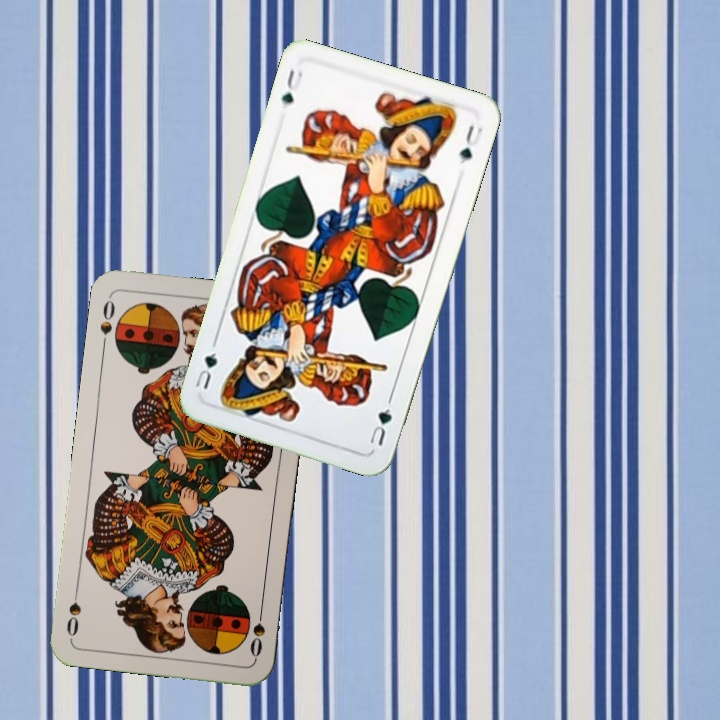GU: (364, 394, 395, 448), (277, 64, 305, 107)
SO: (96, 292, 118, 352), (246, 602, 268, 661)
